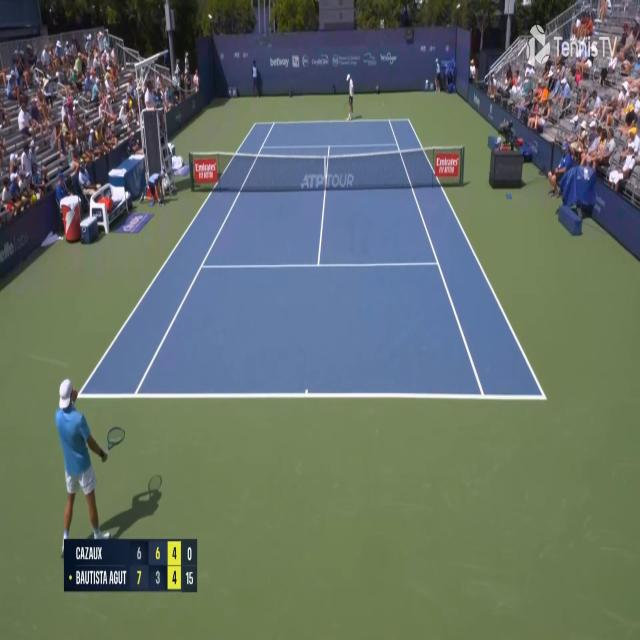tennis-player: (56, 358, 126, 548), (344, 72, 355, 121)
